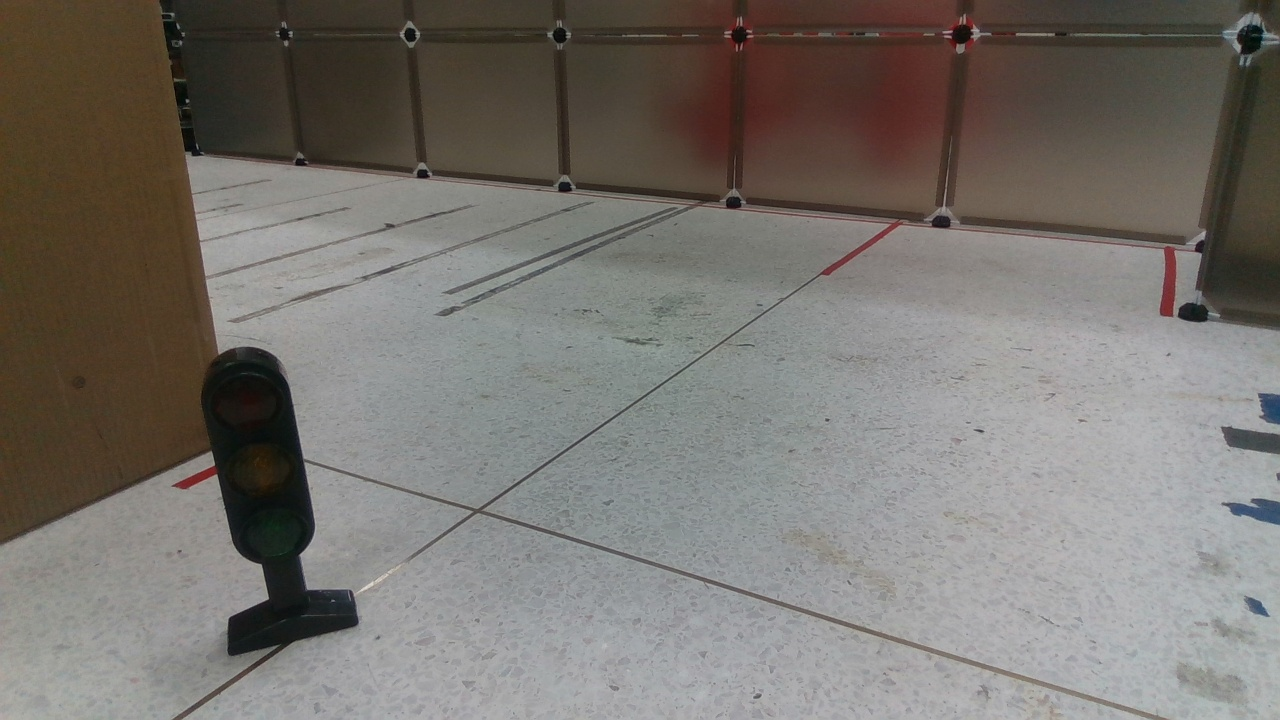Dim traffic light: (184, 347, 360, 660)
